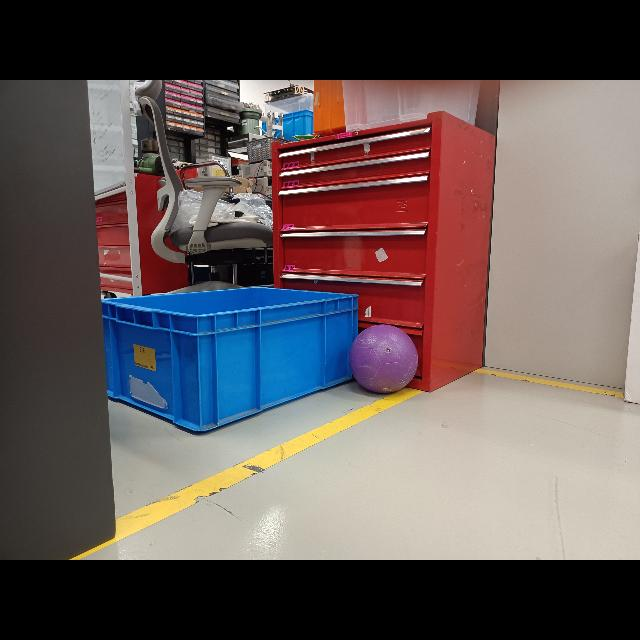P: (349, 324, 418, 394)
